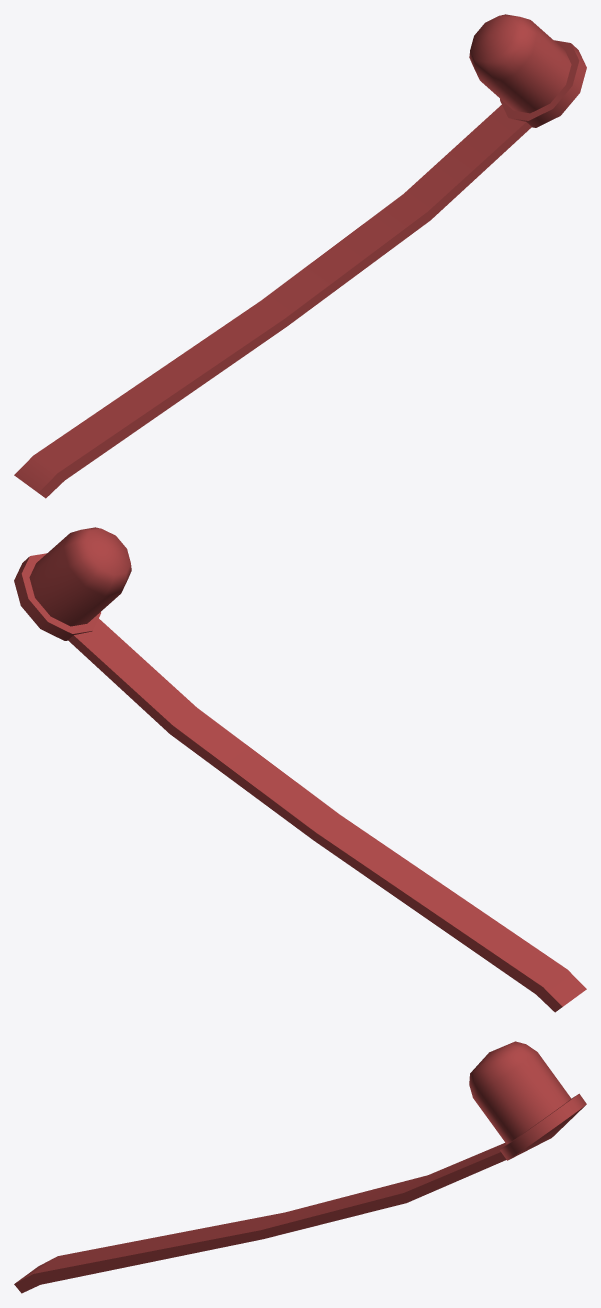
The model's file is Cosita que hace ruido.fbx.
3 views of the same model, one above another, from view 1: azimuth 30°, elevation 25°; view 2: azimuth 150°, elevation 25°; view 3: azimuth 330°, elevation 25° (orthographic).
Parts seen in each view (by area): view 1: Cosita_que_hace_ruido; view 2: Cosita_que_hace_ruido; view 3: Cosita_que_hace_ruido.
Part boxes in pixels (x1,y1,x2,y2): Cosita_que_hace_ruido: (14,14,586,498); Cosita_que_hace_ruido: (14,527,586,1012); Cosita_que_hace_ruido: (14,1041,586,1293).
Size of the model in its own units: 0.1577 by 0.0971 by 0.023.
